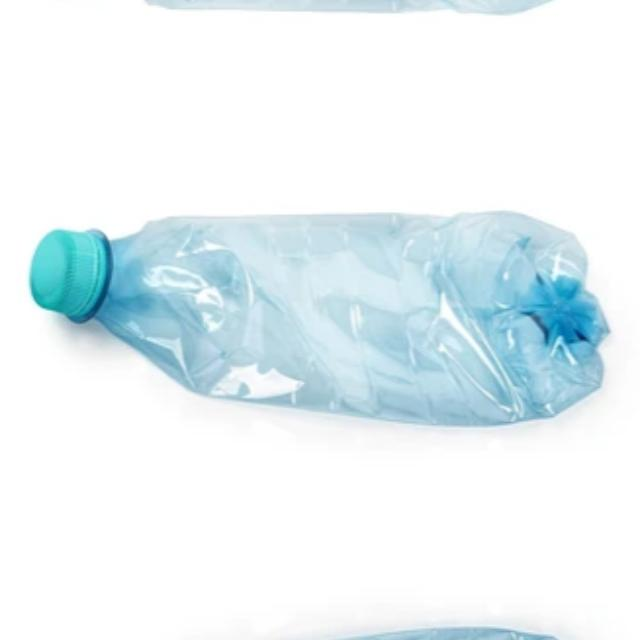Plastic: (18, 153, 626, 460), (17, 0, 626, 71), (17, 594, 626, 640)
